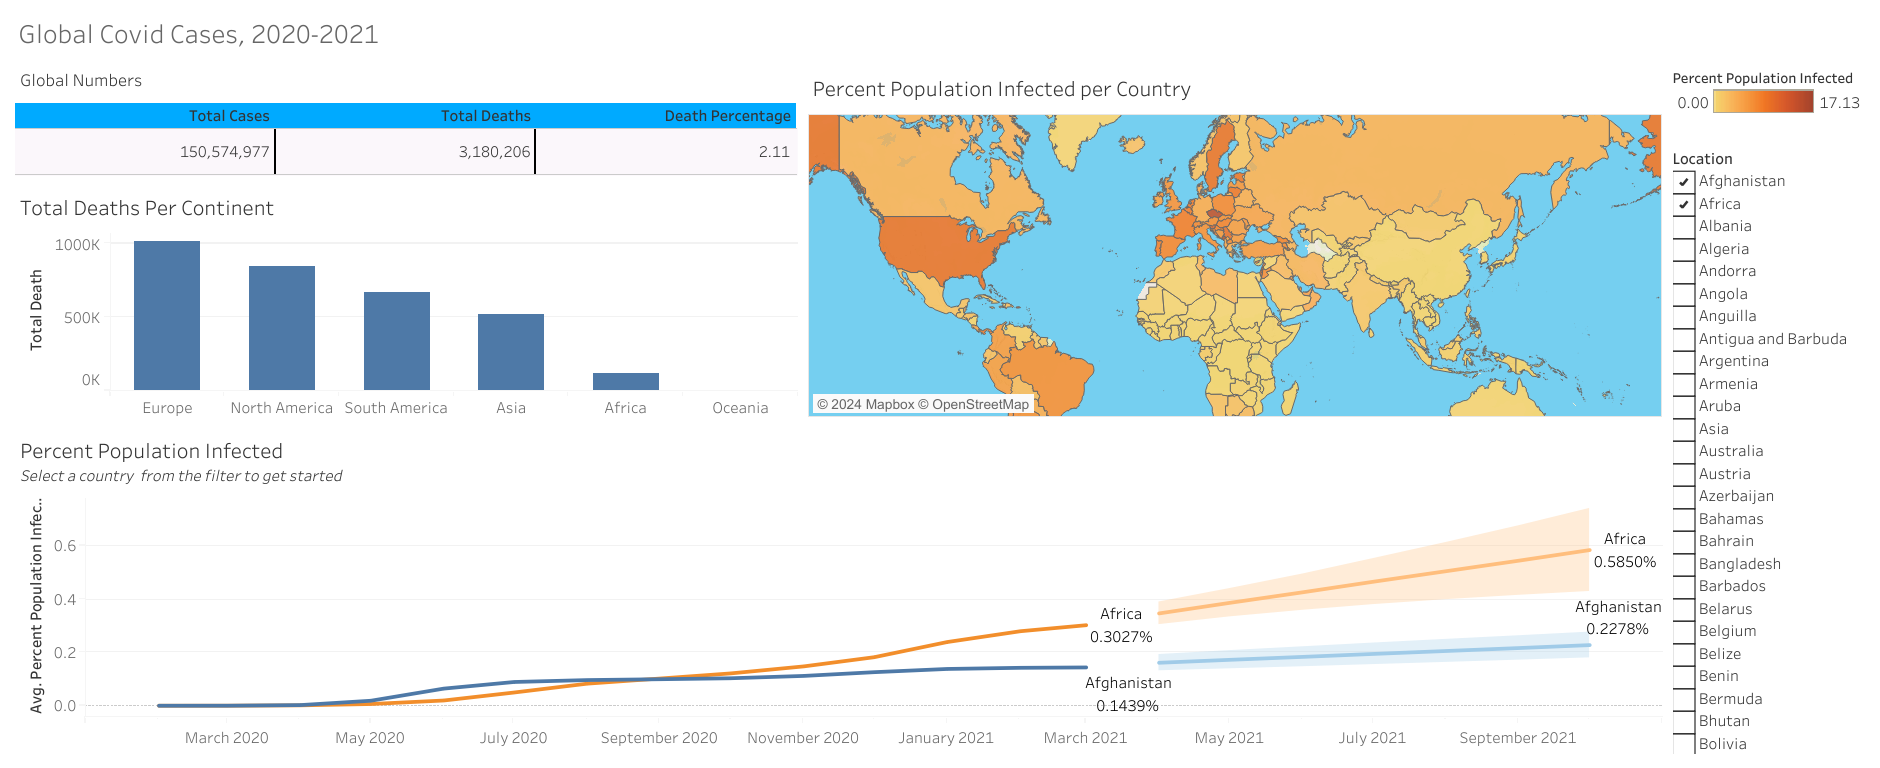

The dashboard page shown, as its layout file describes it:
{"tool":"tableau","page":{"name":"Dashboard 1","canvas":[1000,1000],"units":"permille","ordinal":0},"visuals":[{"type":"text","box":[5,9.4,990,59.6]},{"type":"worksheet","title":"Sheet 1","mark":"Automatic","box":[5,69,424.6,163.7]},{"type":"legend","title":"Sheet 3","param":"[federated.1fruvuo1qzn7nj11no7lw0skg5wd].[sum:PercentPopulationInfected:qk]","box":[893.4,69,101.6,94.7]},{"type":"worksheet","title":"Sheet 3","mark":"Automatic","box":[429.6,76.6,463.8,473.1]},{"type":"filter","title":"Sheet 4","param":"[federated.02jc70q1qi7cql16kl3m01lkg8jn].[none:Location:nk]","box":[893.4,163.8,101.6,826.9]},{"type":"worksheet","title":"Sheet 2","mark":"Automatic","rows":["TotalDeathCount"],"cols":["location"],"box":[5,232.8,424.6,317]},{"type":"worksheet","title":"Sheet 4","mark":"Automatic","rows":["PercentPopulationInfected"],"cols":["date"],"box":[5,549.7,888.4,440.9]}]}

Visuals, with their boxes on the dashboard's canvas, which has no fixed pixel size, in thousandths of its width and height (x1, y1, x2, y2). These are canvas units, not pixel positions in the 1880x768 screenshot, which may show the page scaled, cropped or inside an application window:
text: (x1=5, y1=9, x2=995, y2=69)
"Sheet 1" worksheet: (x1=5, y1=69, x2=430, y2=233)
"Sheet 3" legend: (x1=893, y1=69, x2=995, y2=164)
"Sheet 3" worksheet: (x1=430, y1=77, x2=893, y2=550)
"Sheet 4" filter: (x1=893, y1=164, x2=995, y2=991)
"Sheet 2" worksheet: (x1=5, y1=233, x2=430, y2=550)
"Sheet 4" worksheet: (x1=5, y1=550, x2=893, y2=991)
